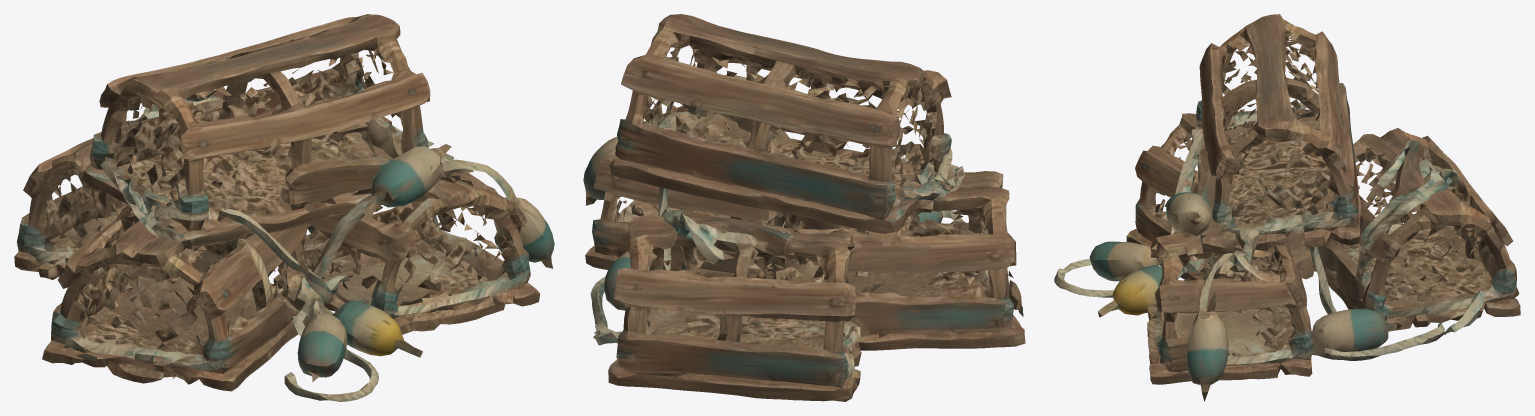
Rendered from tidewake_lobster_pots_buoys.glb.
3 renders of one model, left to right at view 1: azimuth 30°, elevation 25°; view 2: azimuth 150°, elevation 25°; view 3: azimuth 270°, elevation 25°, orthographic. The views are drawn at different scales.
Parts seen in each view (by area): view 1: Mesh_0; view 2: Mesh_0; view 3: Mesh_0.
Part boxes in pixels (bbox=[...]): Mesh_0: bbox=[14, 14, 554, 401]; Mesh_0: bbox=[583, 14, 1025, 401]; Mesh_0: bbox=[1054, 14, 1520, 401].
Size of the model in its own units: 1.89 by 0.9752 by 1.79.
1 material, 1 textured.
